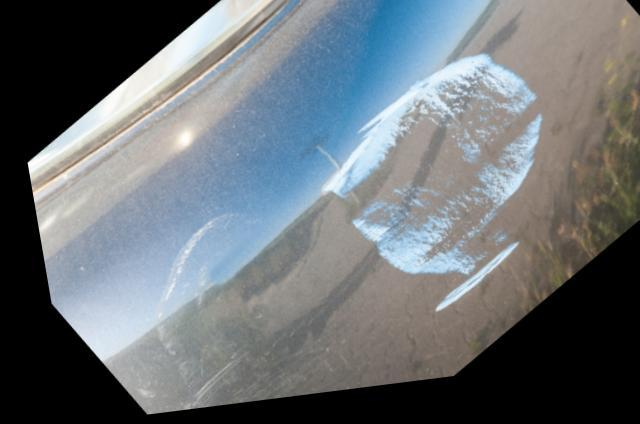scratch: (312, 62, 542, 325), (148, 213, 261, 412)
